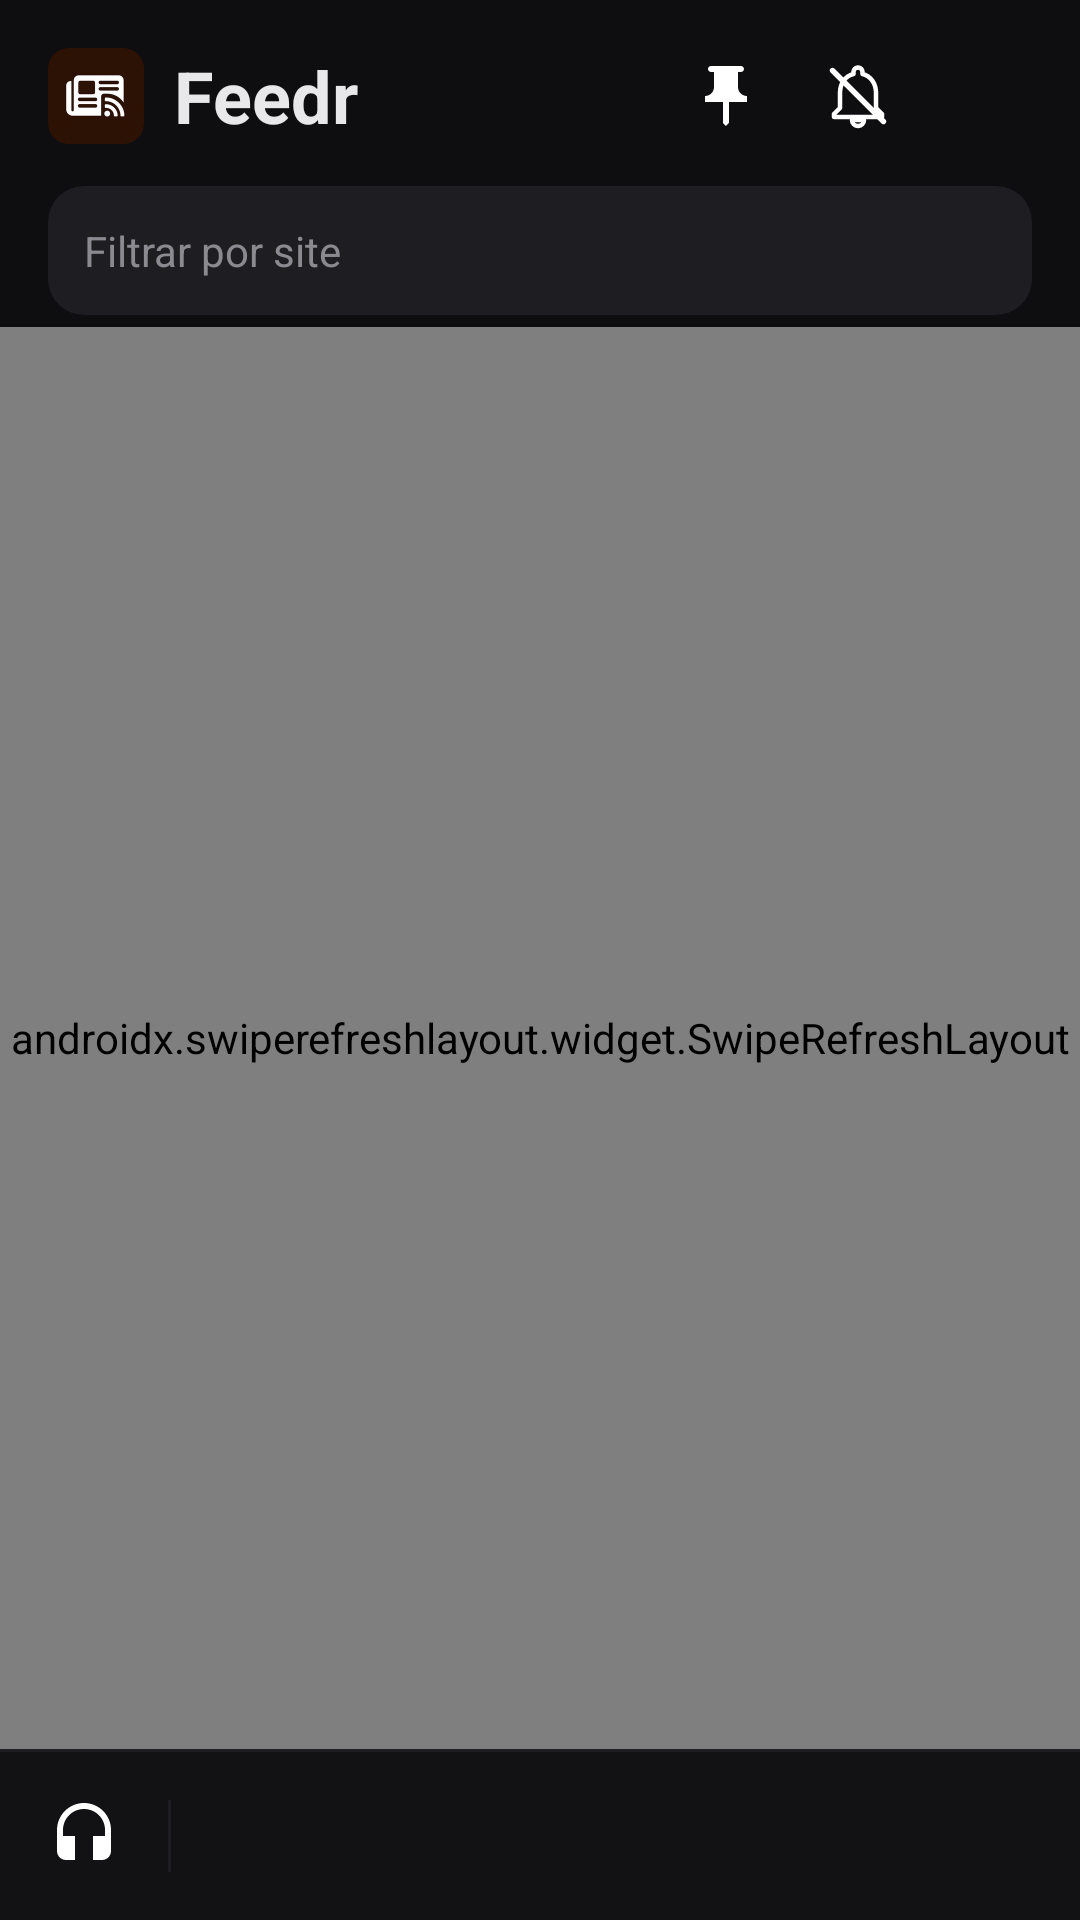

Icons on this 1080x1920 Android screen, each with the point to tap as (x,y):
Podcasts: (84,1831)
Salvas: (726,96)
